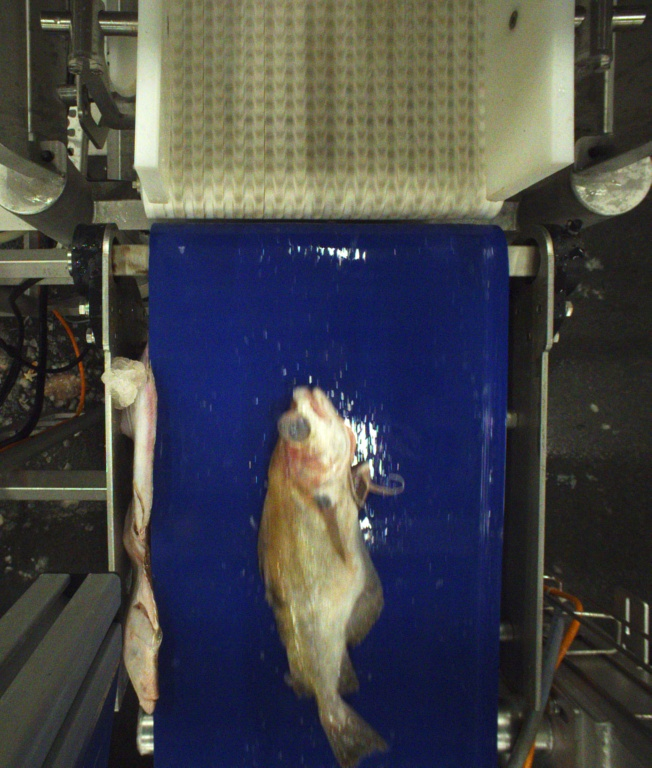BIB: (256, 382, 397, 767)
